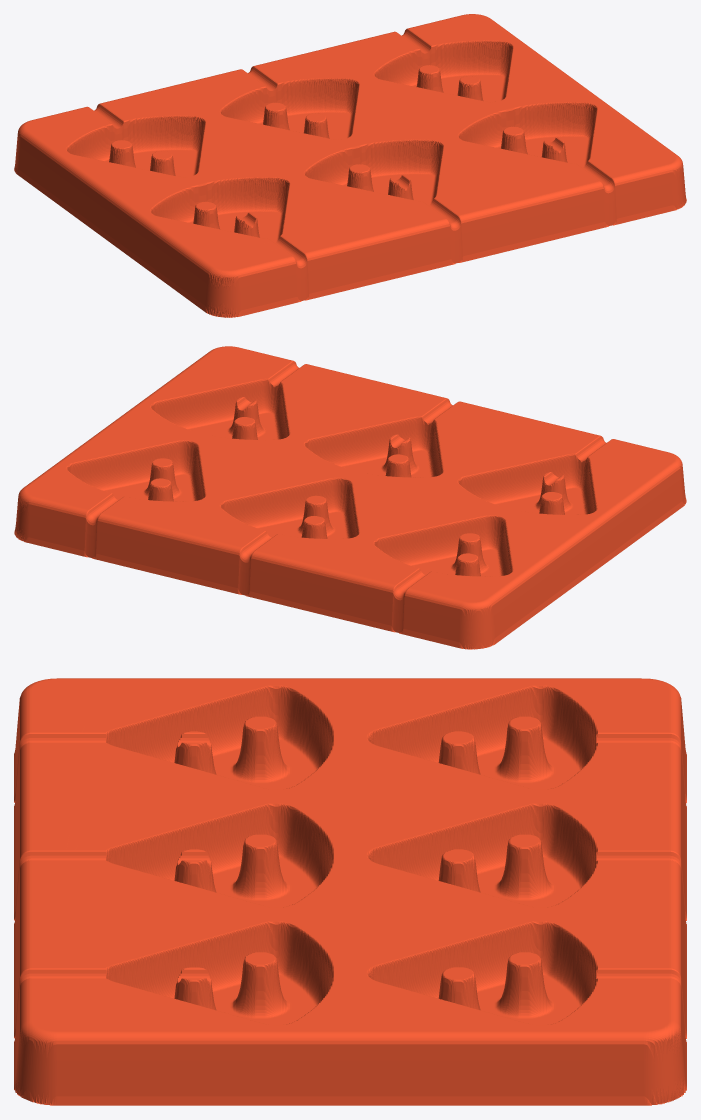
The model's file is mold.glb.
The picture shows the model from 3 angles, top to bottom: view 1: azimuth 30°, elevation 25°; view 2: azimuth 150°, elevation 25°; view 3: azimuth 270°, elevation 25°; orthographic projection. The views are drawn at different scales.
Parts seen in each view (by area): view 1: geometry_0; view 2: geometry_0; view 3: geometry_0.
Boxes of the visible parts, bbox=[...] form: geometry_0: bbox=[14, 14, 686, 317]; geometry_0: bbox=[14, 346, 686, 649]; geometry_0: bbox=[14, 678, 686, 1105].
Bounding box in the file's own units: 0.1824 × 0.0155 × 0.1416.
